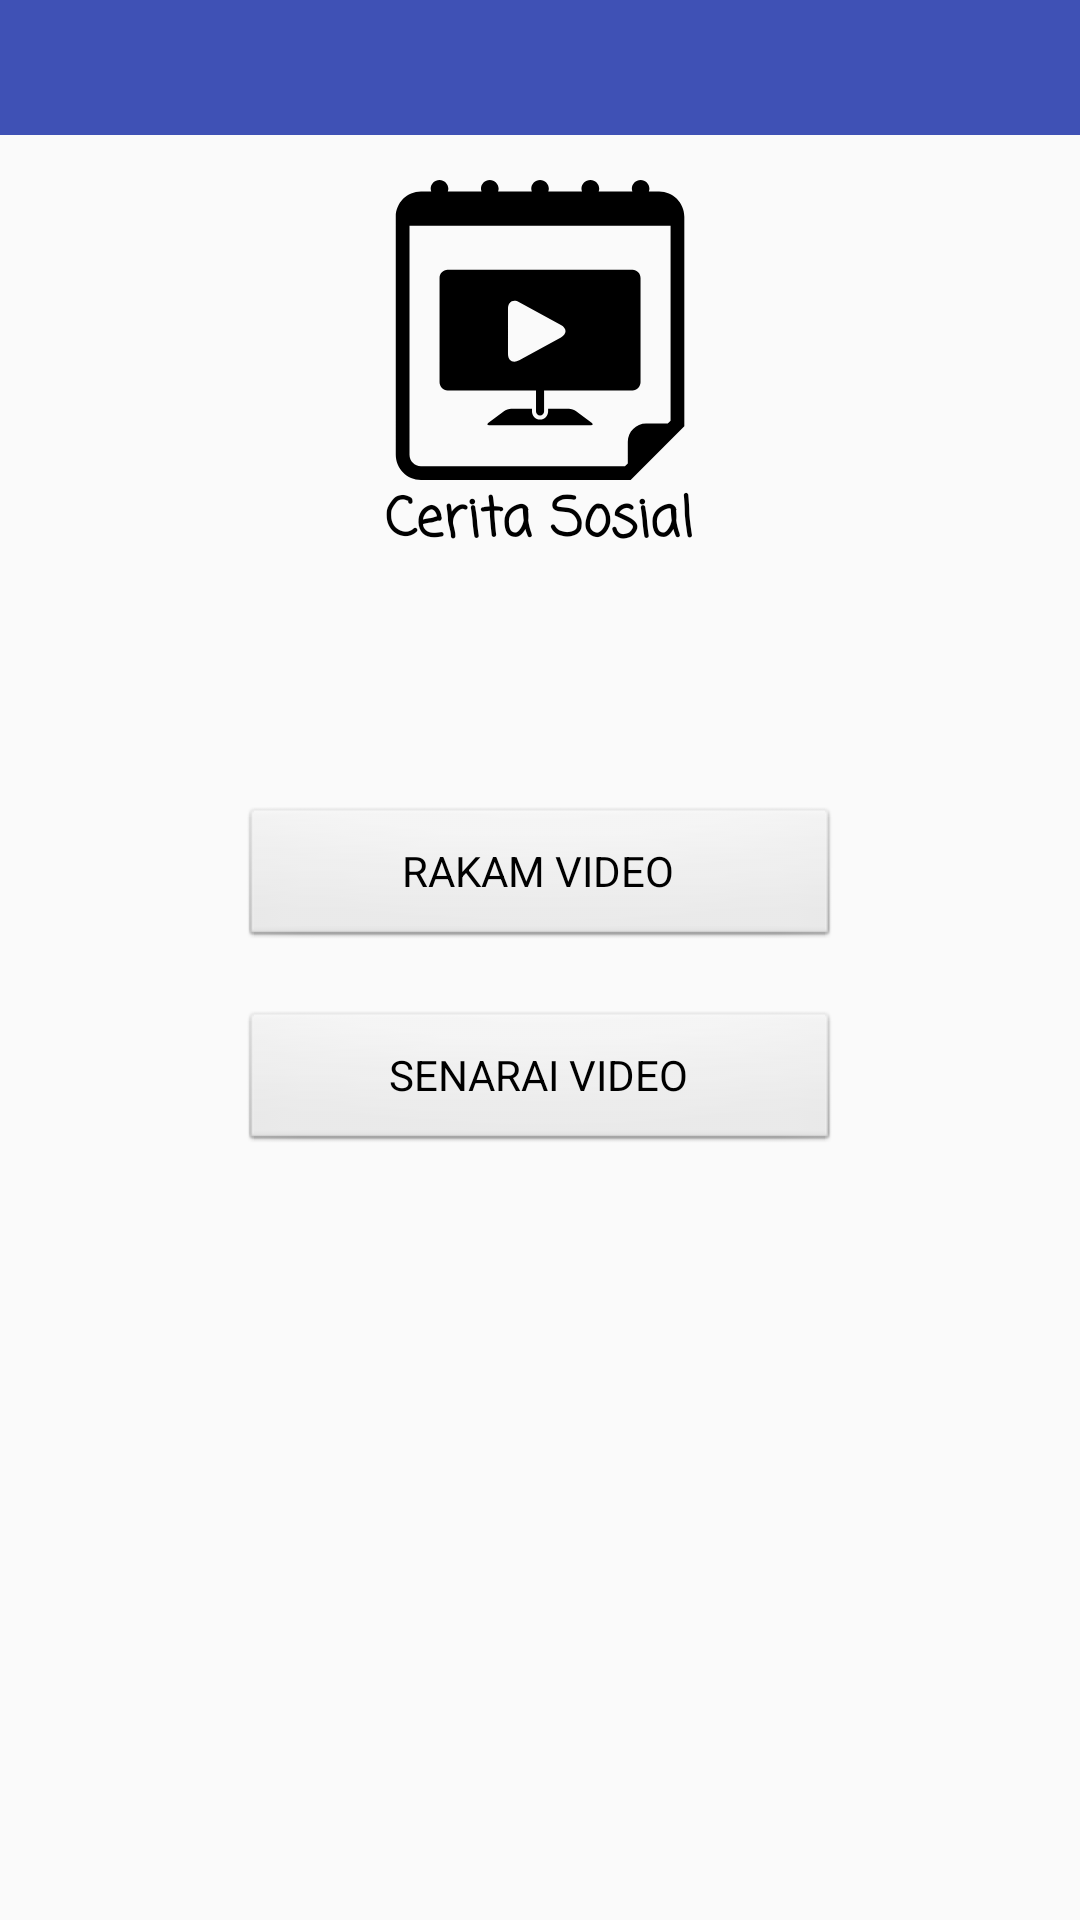

Icon bounding boxes for this 1080px×1920px phone screenshot, format bbox(x1, y1, x2, y2):
video: bbox(395, 180, 685, 480)
